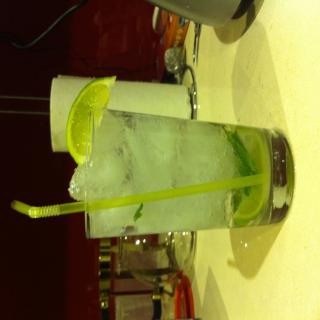Lemon: (64, 76, 117, 167), (233, 186, 262, 229)
